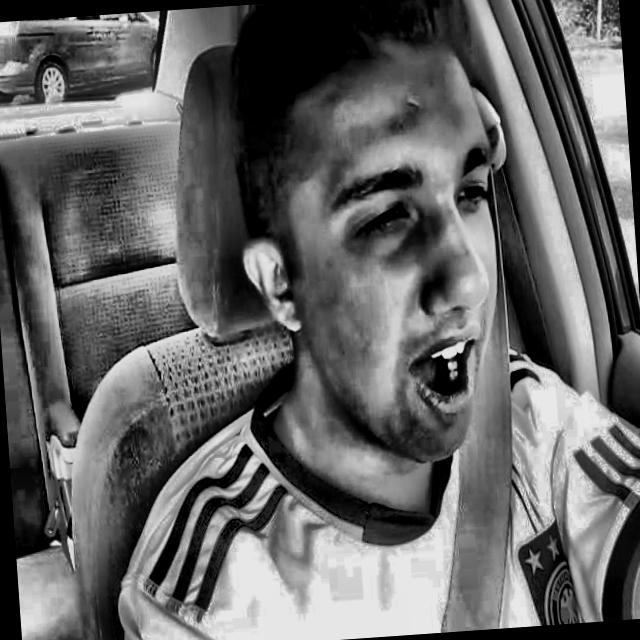open_mouth: (387, 322, 495, 431)
